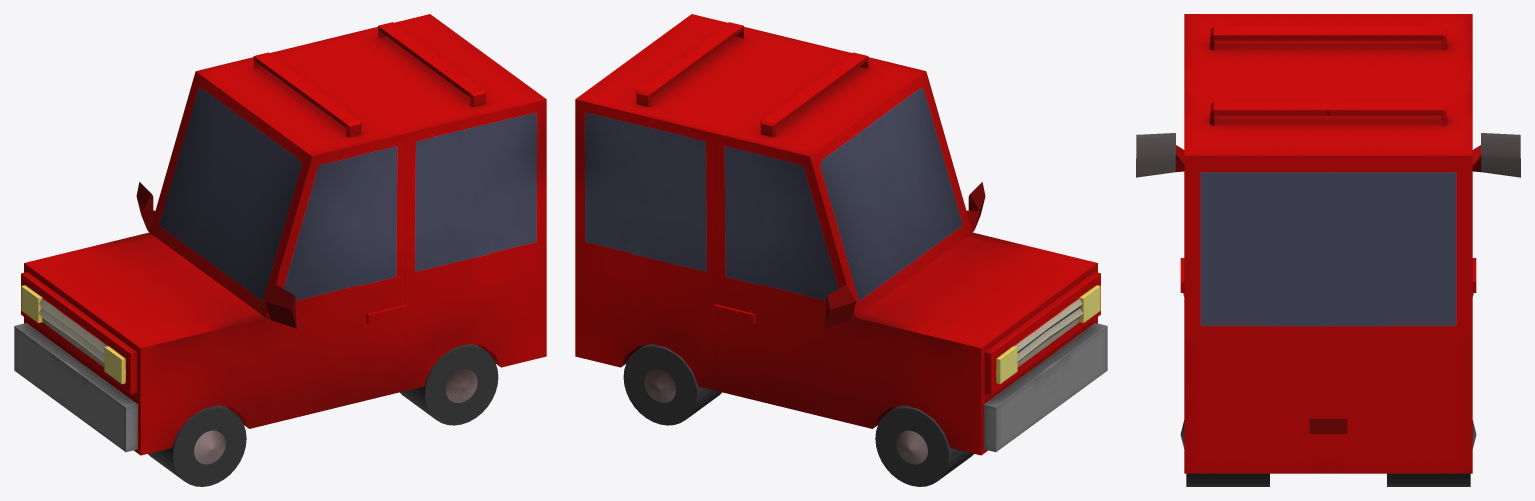
The model's file is model_car1.fbx.
3 views of the same model, side by side, from view 1: azimuth 30°, elevation 25°; view 2: azimuth 150°, elevation 25°; view 3: azimuth 270°, elevation 25° (orthographic). The views are drawn at different scales.
Visible parts, largest first — view 1: mesh_car1; view 2: mesh_car1; view 3: mesh_car1.
Part boxes in pixels (box(x1,y1,x2,y2)): mesh_car1: box(14, 14, 546, 486); mesh_car1: box(575, 14, 1107, 486); mesh_car1: box(1136, 14, 1520, 486).
Size of the model in its own units: 726 by 527 by 467.
